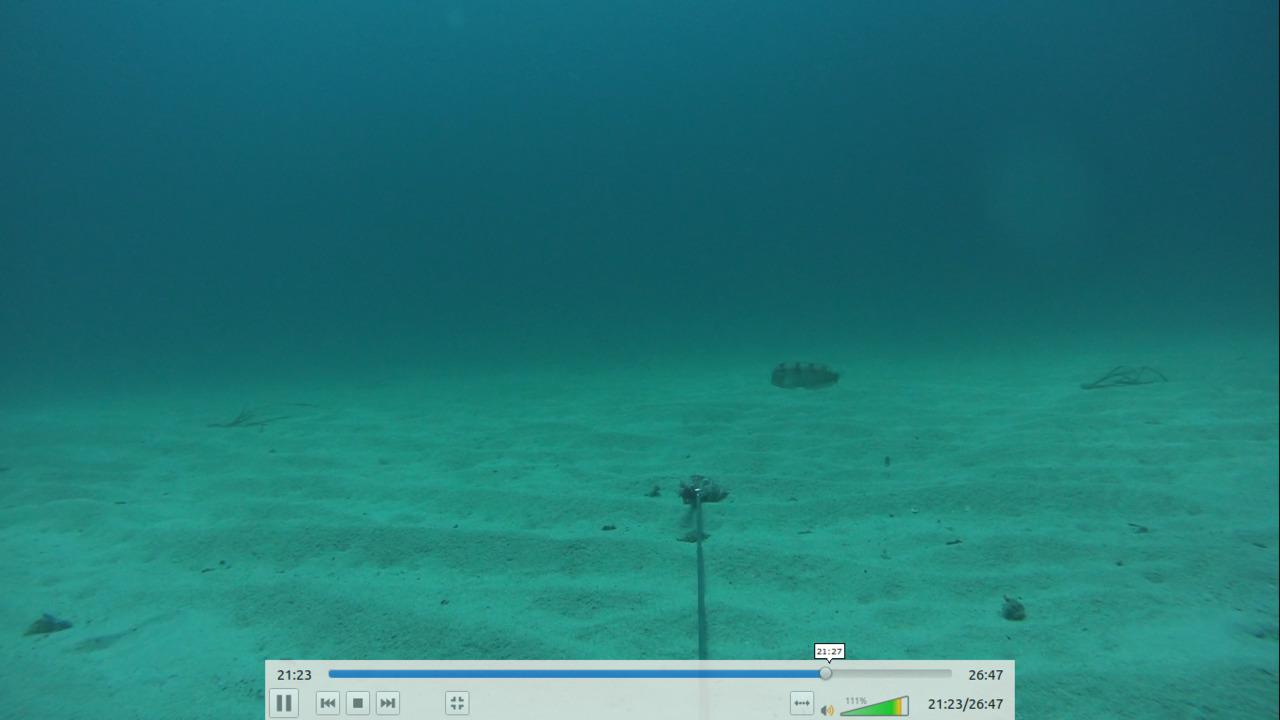raor: (764, 354, 851, 392)
